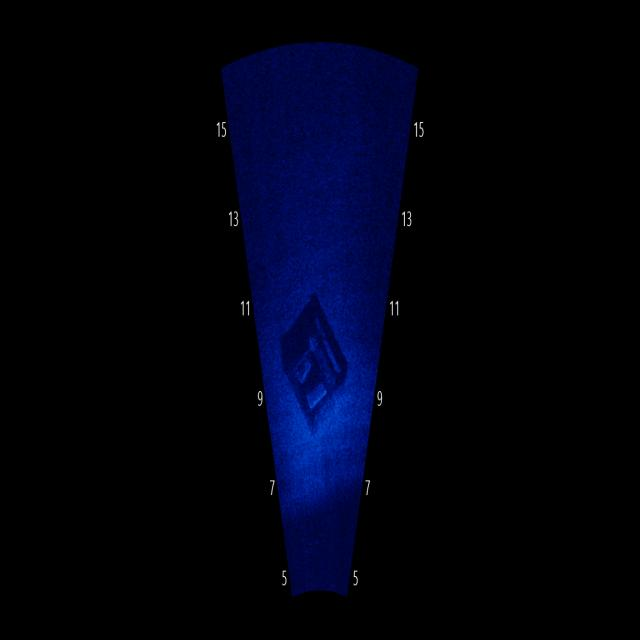square: (277, 286, 363, 438)
